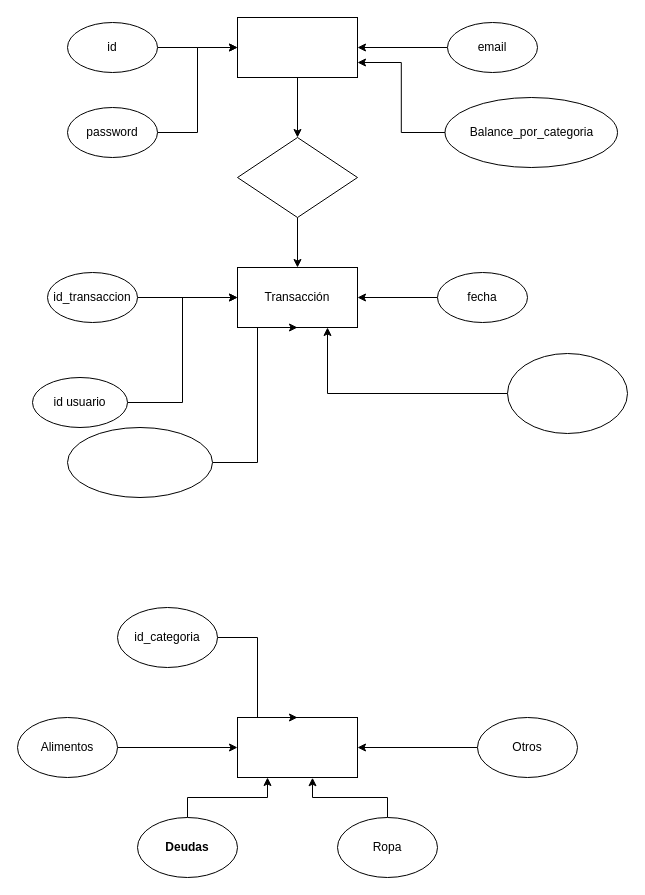
The diagram is 645 pixels wide and 895 high, and some of its shapes have lost their labels. Each missing label, with the centre of its shape:
"cantidad dinero" goes at (567,393).
"Categorias" goes at (297,747).
"id_categoria_destino" goes at (139,462).
"Registra" goes at (297,177).
"Usuario" goes at (297,47).
